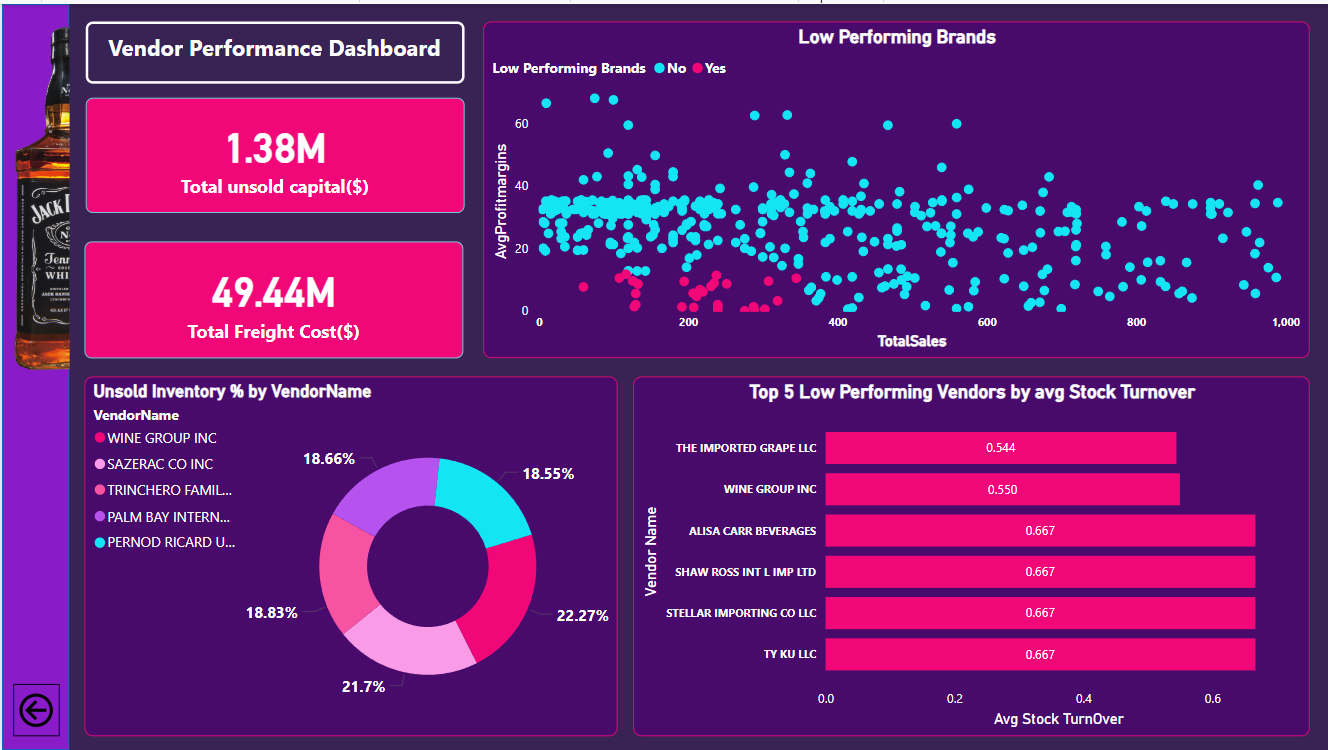

What the dashboard file says about the page in this screenshot:
{"tool":"powerbi","page":{"name":"Low Performing Vendors","canvas":[1280,720],"ordinal":1},"visuals":[{"type":"donutChart","fields":{"Category":["vendor_sales_summary_new.VendorName"],"Y":["vendor_sales_summary_new.UnsoldInventoryPercent"]},"box":[79.7,359.6,514.5,347.5],"z":0},{"type":"clusteredBarChart","title":"Top 5 Low Performing Vendors by avg Stock Turnover","fields":{"Category":["LowTurnOverVendor.VendorName"],"Y":["Avg(LowTurnOverVendor.AvgStockTurnOver)"]},"box":[609.3,359.6,652.9,347.5],"z":1000},{"type":"scatterChart","title":"Low Performing Brands","fields":{"Category":["Brandperformance.Description"],"X":["Sum(Brandperformance.TotalSales)"],"Y":["Sum(Brandperformance.AvgProfitmargins)"],"Series":["Brandperformance.TargetBrand"]},"box":[464.9,16.5,797.4,325],"z":2000},{"type":"card","fields":{"Values":["Sum(vendor_sales_summary_new.unsold capital)"]},"box":[81.2,90.3,365.6,111.3],"z":3000},{"type":"shape","box":[0,0,65.1,720.2],"z":4000},{"type":"actionButton","box":[10.9,656.3,44.6,50.7],"z":5000},{"type":"textbox","box":[81.2,16.5,365.6,60.2],"z":6000},{"type":"card","fields":{"Values":["Sum(vendor_sales_summary_new.FreightCost)"]},"box":[79.7,228.7,365.6,112.8],"z":7000},{"type":"image","box":[5.5,0,64.5,373.2],"z":7001}]}

Visuals, with their boxes in screenshot pixels (x1, y1, x2, y2), scaled from the page's 1280x720 canvas onto the 1328x750 screenshot:
donutChart - vendor_sales_summary_new.VendorName x vendor_sales_summary_new.UnsoldInventoryPercent: 83 375 616 737
"Top 5 Low Performing Vendors by avg Stock Turnover" clusteredBarChart: 632 375 1310 737
"Low Performing Brands" scatterChart: 482 17 1310 356
card - Sum(vendor_sales_summary_new.unsold capital): 84 94 464 210
shape: 0 0 68 749
actionButton: 11 684 58 736
textbox: 84 17 464 80
card - Sum(vendor_sales_summary_new.FreightCost): 83 238 462 356
image: 6 0 73 389
